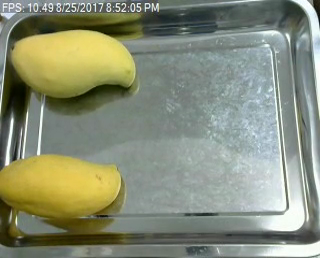Mango: (8, 29, 139, 102), (2, 150, 128, 223)
